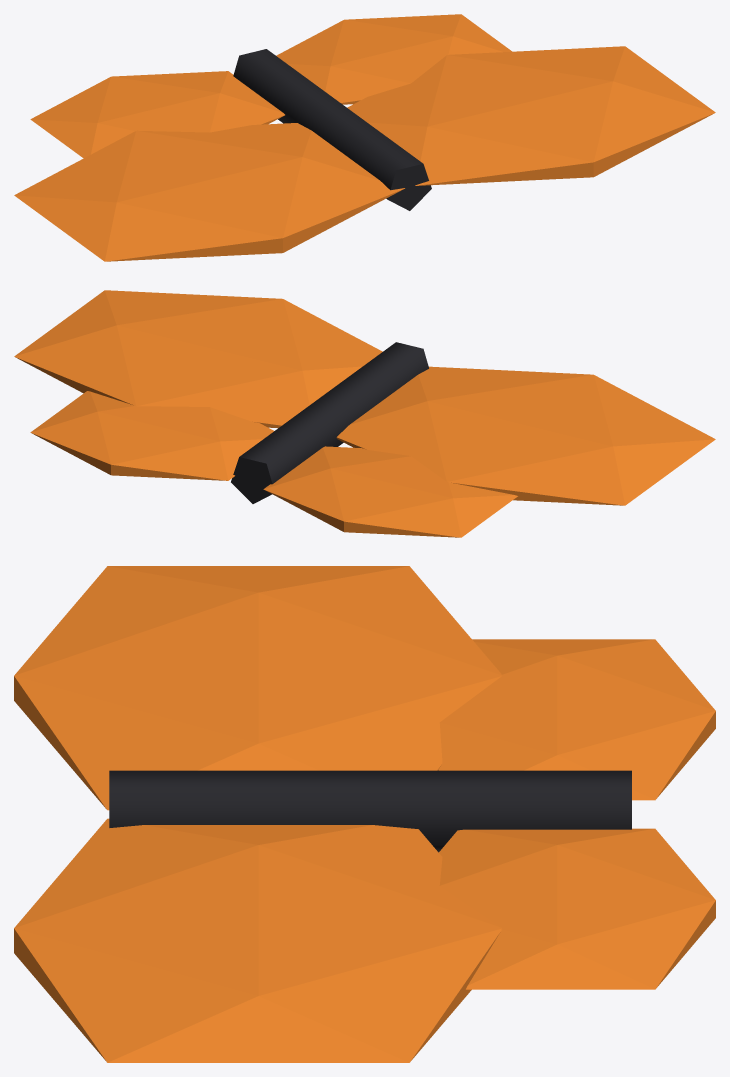
The model's file is mariposa_v1.glb.
3 renders of one model, top to bottom at view 1: azimuth 30°, elevation 25°; view 2: azimuth 150°, elevation 25°; view 3: azimuth 270°, elevation 25°, orthographic. The views are drawn at different scales.
Parts seen in each view (by area): view 1: ala_sup (×2), ala_inf (×2), cuerpo; view 2: ala_sup (×2), ala_inf (×2), cuerpo; view 3: ala_sup (×2), ala_inf (×2), cuerpo.
Part boxes in pixels (left/top/right/bottom): ala_sup (×2): left=14, top=46, right=715, bottom=261; ala_inf (×2): left=30, top=14, right=511, bottom=158; cuerpo: left=233, top=49, right=431, bottom=210; ala_sup (×2): left=14, top=290, right=715, bottom=505; ala_inf (×2): left=30, top=391, right=517, bottom=537; cuerpo: left=231, top=342, right=428, bottom=503; ala_sup (×2): left=14, top=566, right=501, bottom=1062; ala_inf (×2): left=438, top=639, right=715, bottom=989; cuerpo: left=109, top=770, right=631, bottom=852.
Size of the model in its own units: 0.3148 by 0.0217 by 0.188.
